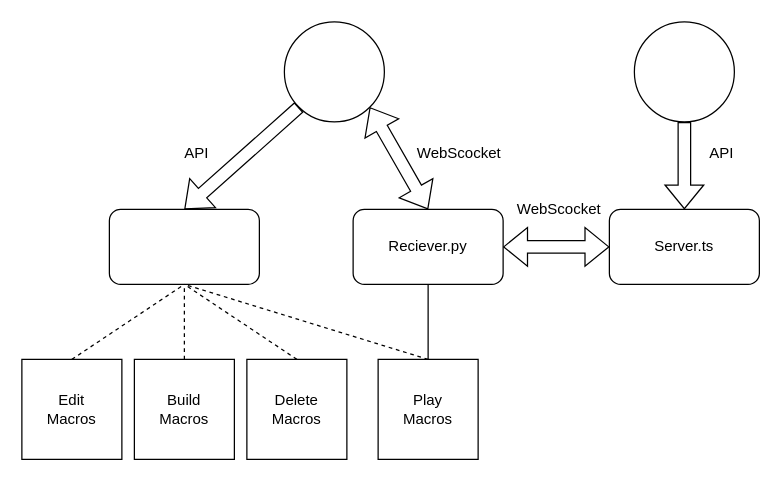
This 781x481 diagram has some shape labels left out. Each missing label, with the centre of its shape:
"Backend.py" belongs at point 183,246.
"Client Frontend" belongs at point 333,71.
"Remote Frontend" belongs at point 683,71.
